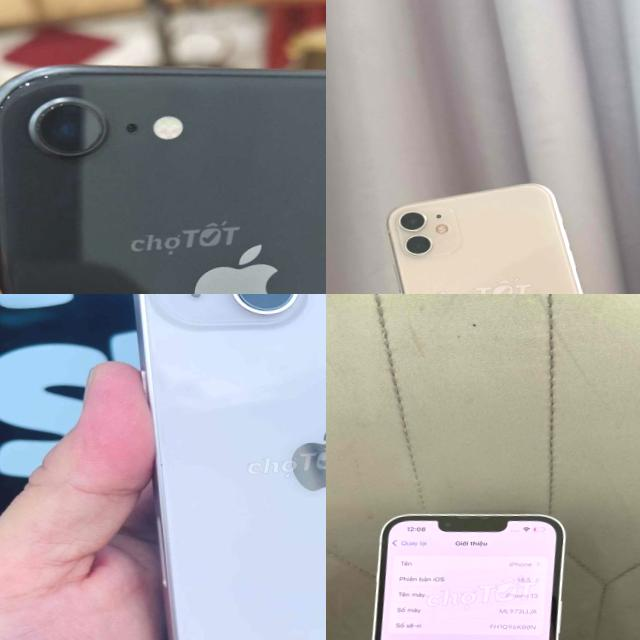gen_11: (381, 174, 629, 294)
gen_12_13: (116, 294, 326, 640), (333, 494, 605, 640)
gen_7_8: (0, 19, 326, 294)
scratch: (0, 68, 54, 144)
